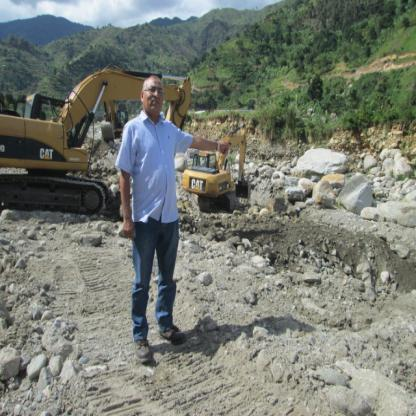excavator: (184, 112, 264, 227)
person: (114, 66, 202, 359)
